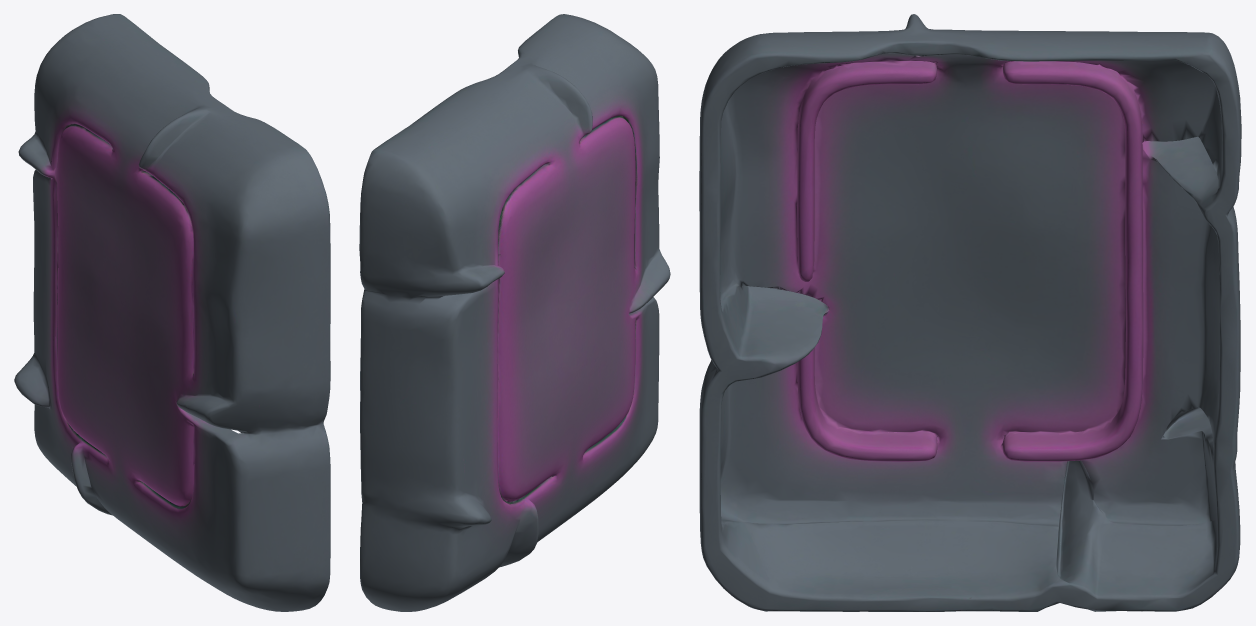
The picture shows the model from 3 angles, left to right: view 1: azimuth 30°, elevation 25°; view 2: azimuth 150°, elevation 25°; view 3: azimuth 270°, elevation 25°; orthographic projection. The views are drawn at different scales.
Visible parts, largest first — view 1: Mesh::generatedModels/LGMA8ANgKwR54VTiNcGg.gltf; view 2: Mesh::generatedModels/LGMA8ANgKwR54VTiNcGg.gltf; view 3: Mesh::generatedModels/LGMA8ANgKwR54VTiNcGg.gltf.
Part boxes in pixels (x1=…): Mesh::generatedModels/LGMA8ANgKwR54VTiNcGg.gltf: x1=14, y1=14, x2=330, y2=611; Mesh::generatedModels/LGMA8ANgKwR54VTiNcGg.gltf: x1=359, y1=14, x2=670, y2=611; Mesh::generatedModels/LGMA8ANgKwR54VTiNcGg.gltf: x1=699, y1=14, x2=1241, y2=611.
Size of the model in its own units: 0.2471 by 1 by 0.8708.
Materials: 1 (1 with a texture image).
